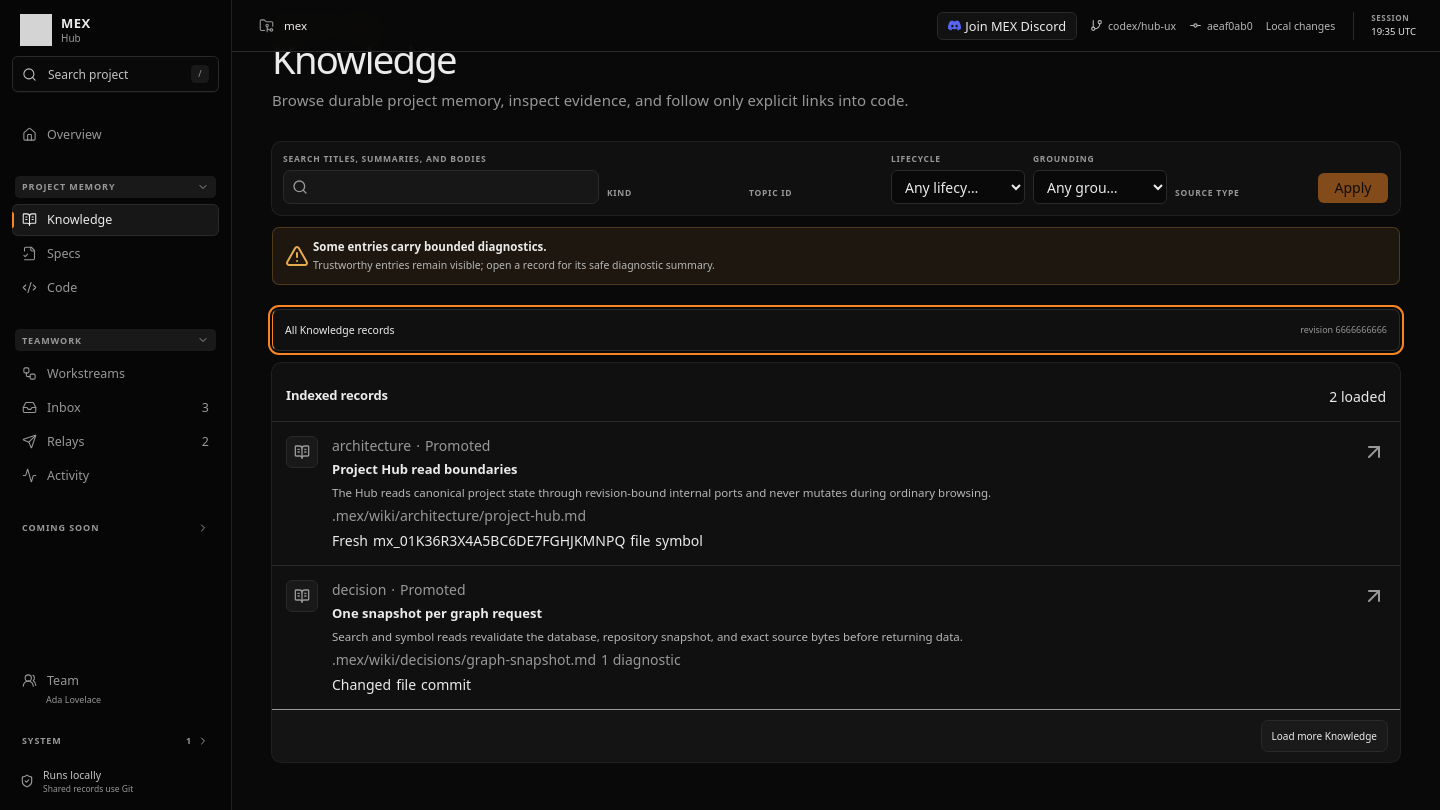
Scenario: Read-only Knowledge browse › preserves loaded entries on an ordinary pagination failure
(page scrolled)
Expected: the text "Project Hub read boundaries" is shown, [332,461,518,479]
Click the button "Load more Knowledge": (1324, 736) [1260,720,1388,752]
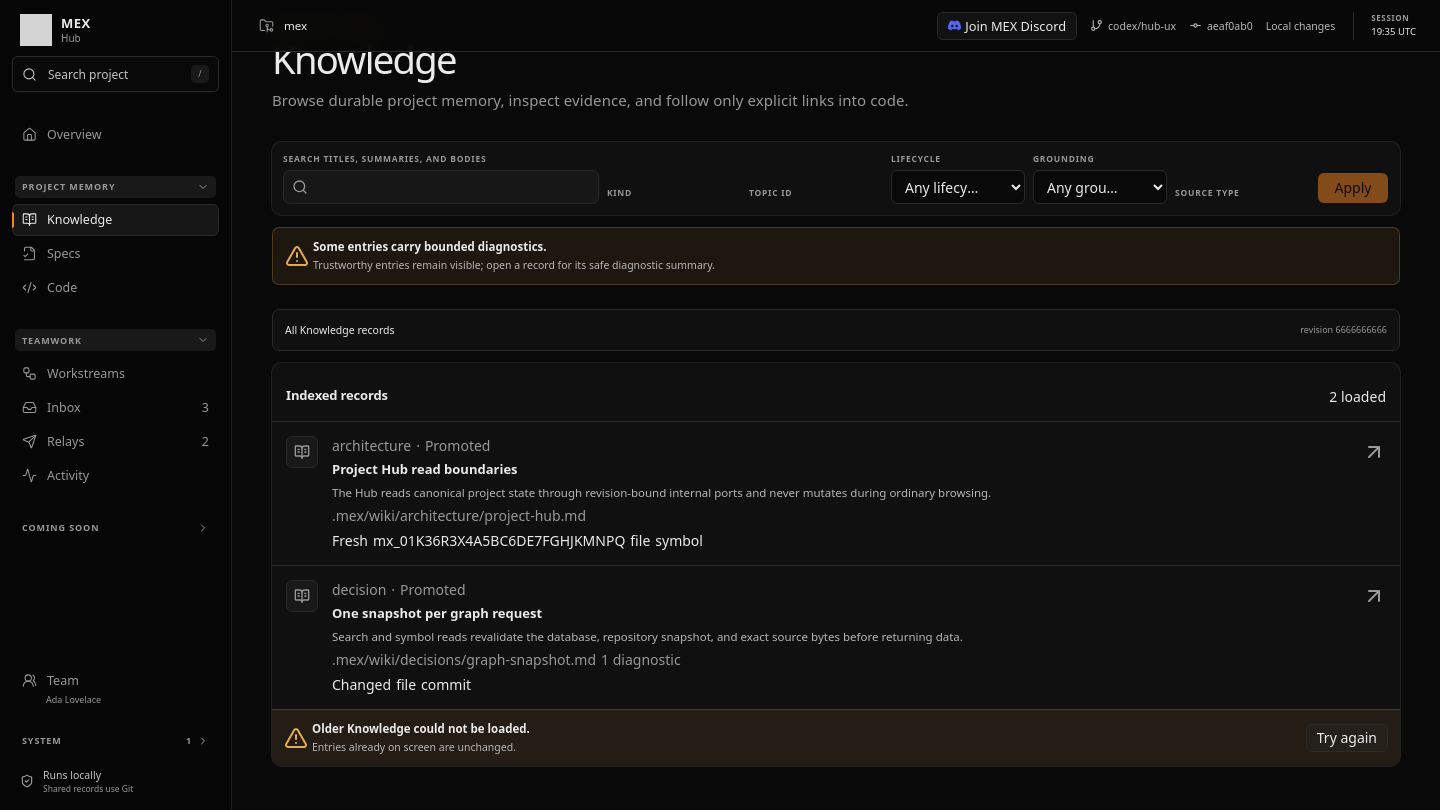
Expected: the text "Project Hub read boundaries" is shown, [332,461,518,479]
Result: the text "Older Knowledge could not be loaded." is shown at [312,721,530,736]
